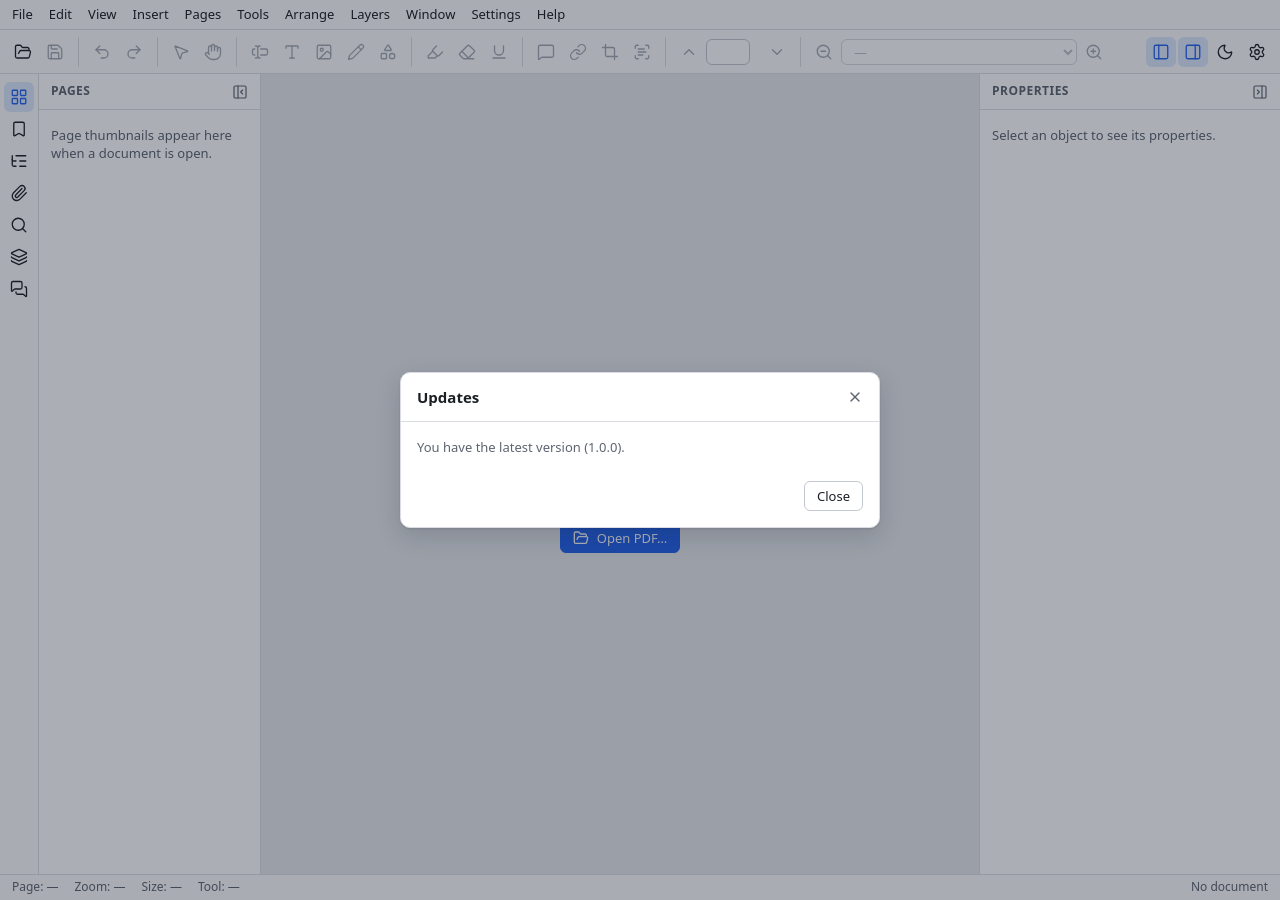
Scenario: updates › reports the result of a manual check, whatever it is
Expected: the dialog "Updates" shows "You have the latest version (1.0.0).", [417,438,625,456]
Step 1. Click the button "Close" → (834, 496), box [804,481,863,511]
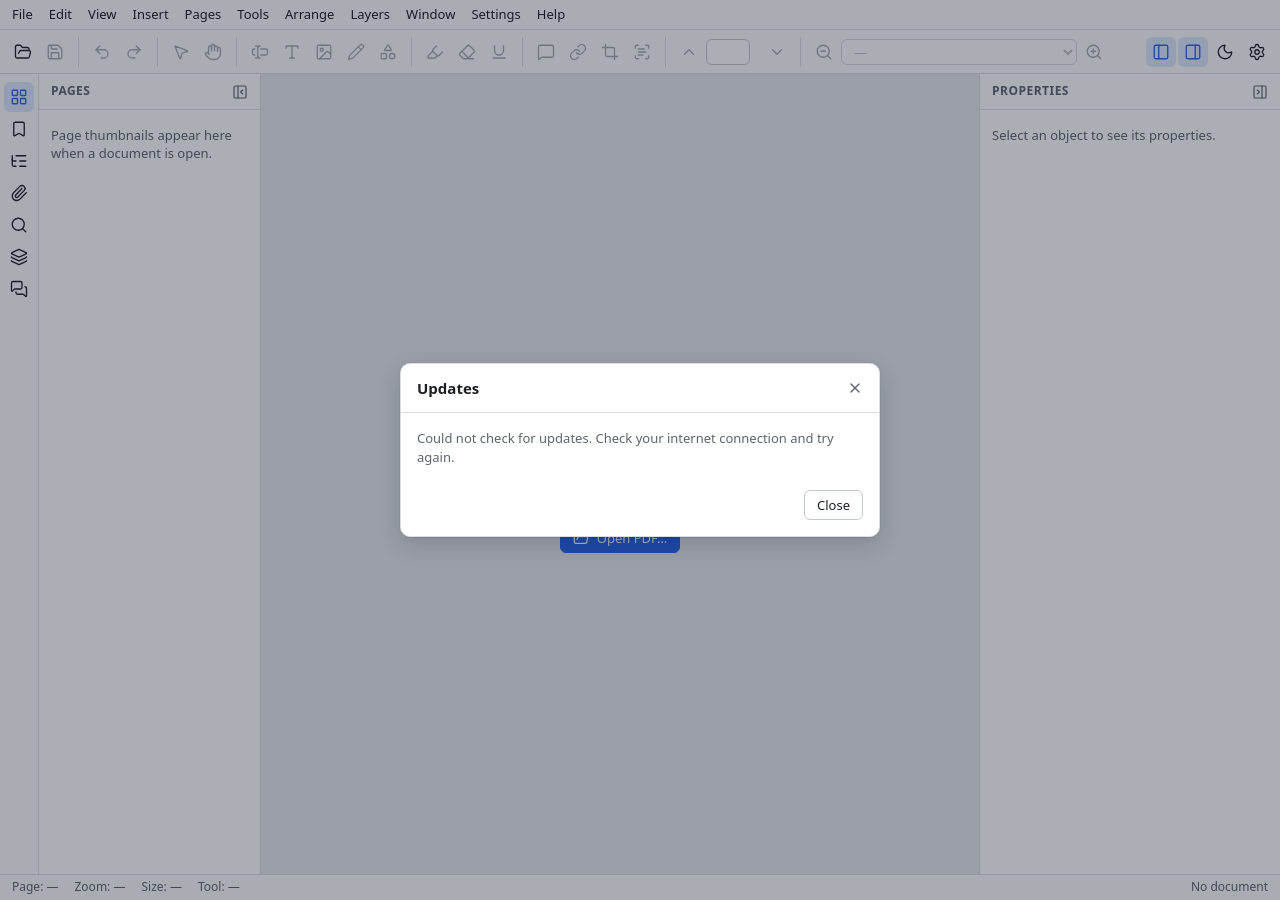
Now the dialog "Updates" shows "Could not check for updates.", box [417,429,834,466]
Step 2. Click the button "Close" → (834, 505), box [804,490,863,520]
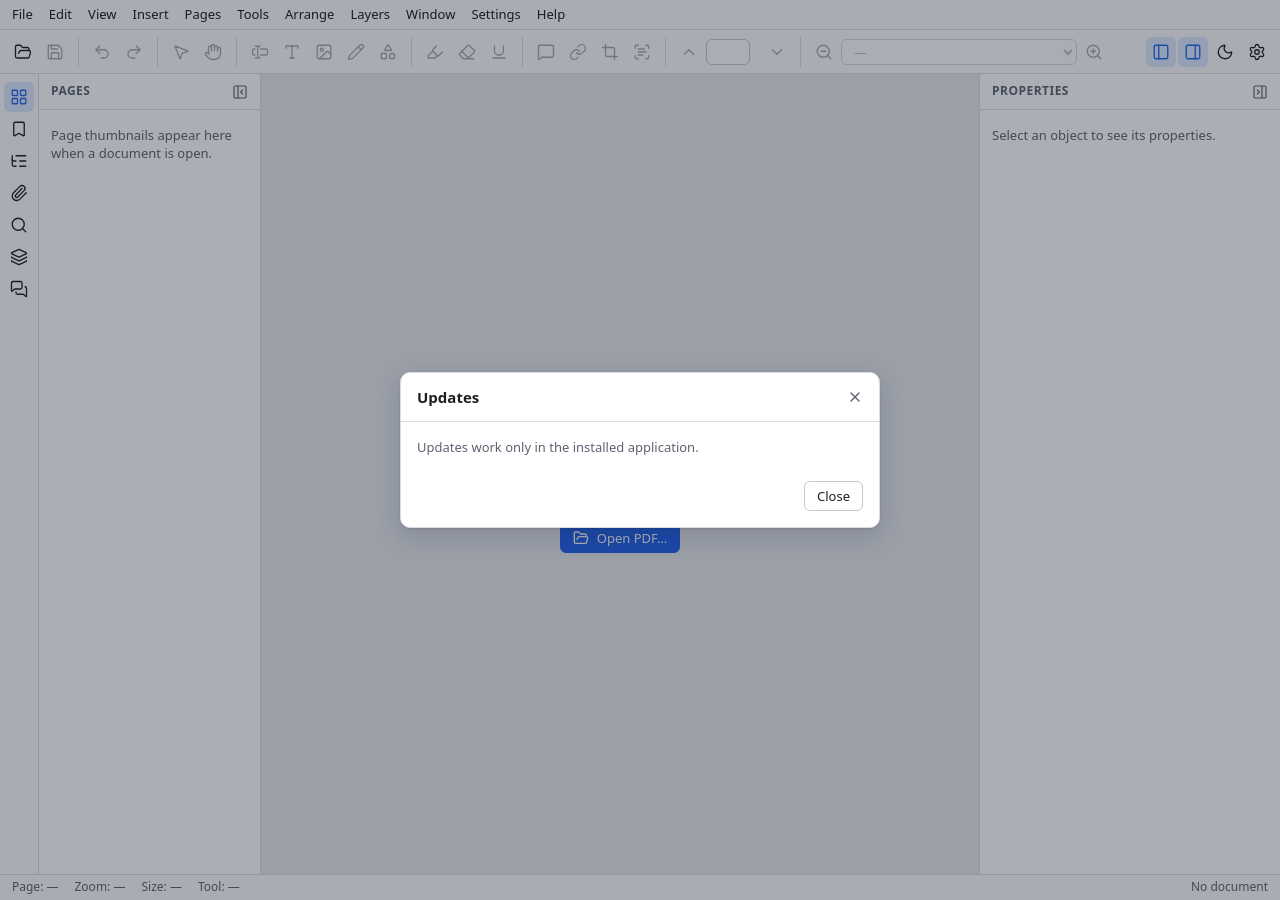
Now the dialog "Updates" shows "Updates work only in the installed application.", box [417,438,699,456]
